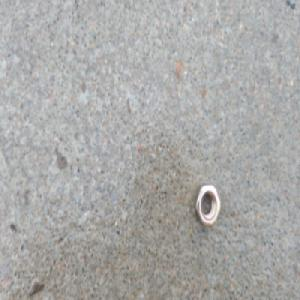Nut: (195, 182, 222, 228)
